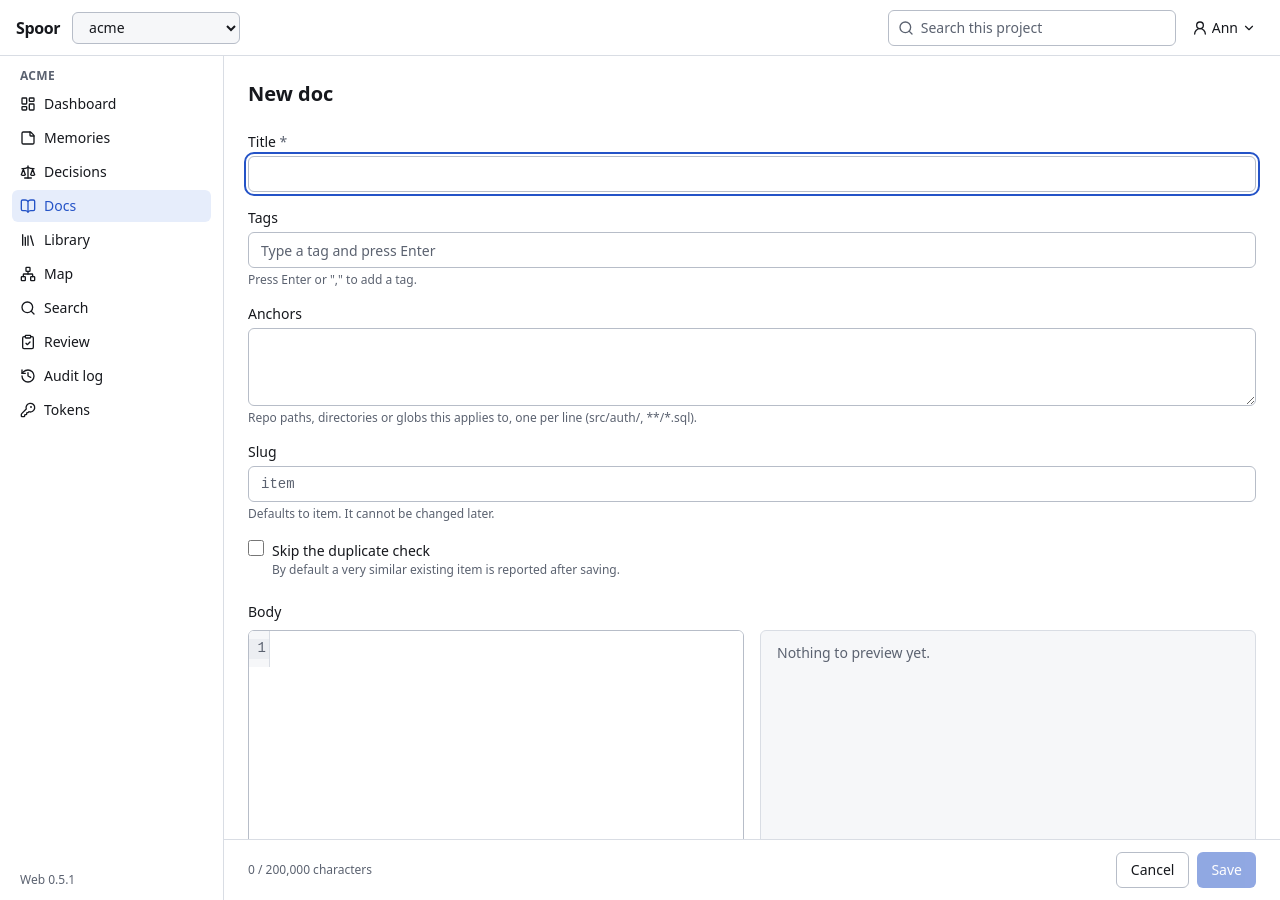
Scenario: editor: frontmatter form › maps server invalid_input issues to their fields
Step 1. Type "Runbook" into the field labelled "Title *" → (752, 174), box [248, 156, 1256, 192]
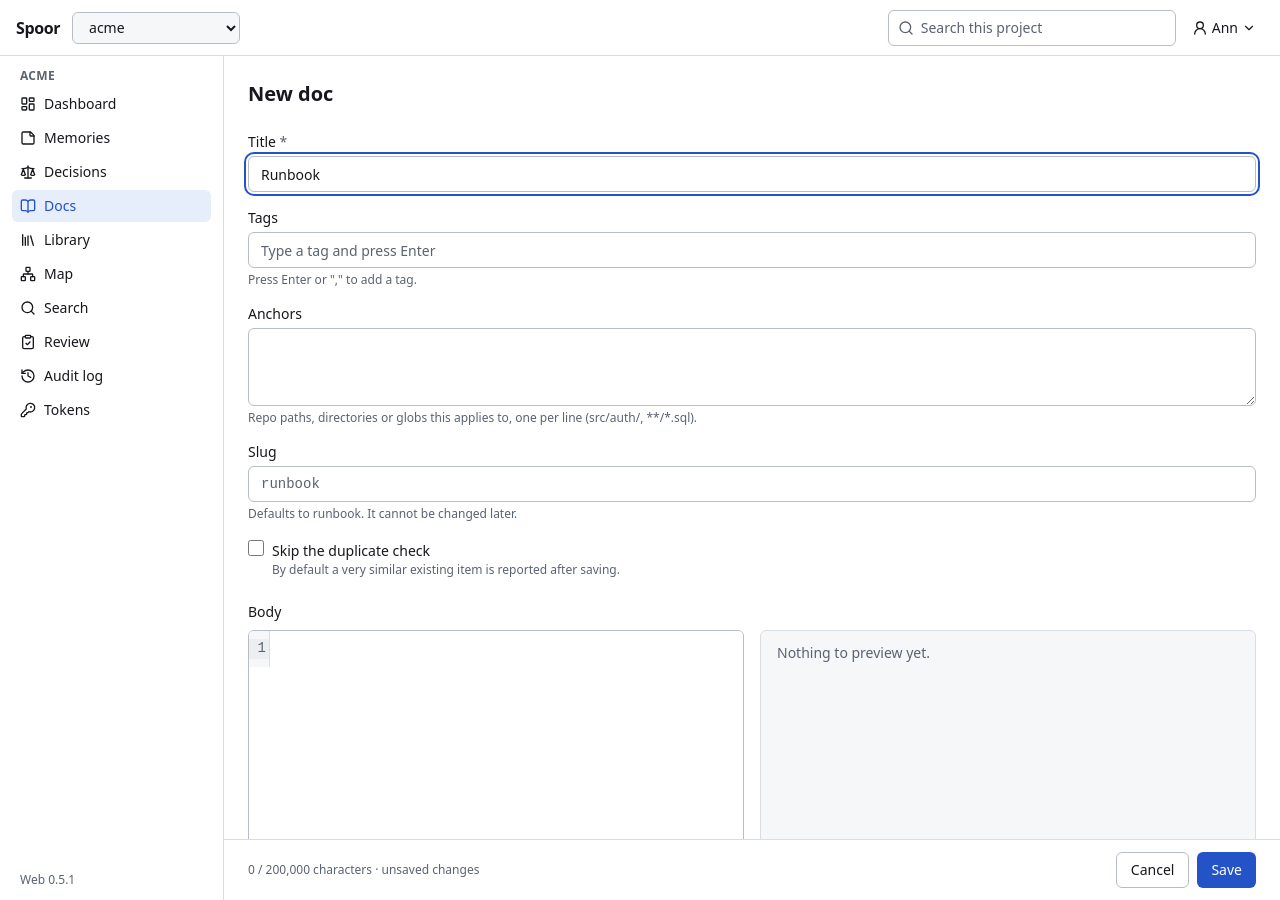
Step 2. Type "ops" into the field labelled "Tags" → (752, 250), box [248, 232, 1256, 268]
Then press Enter
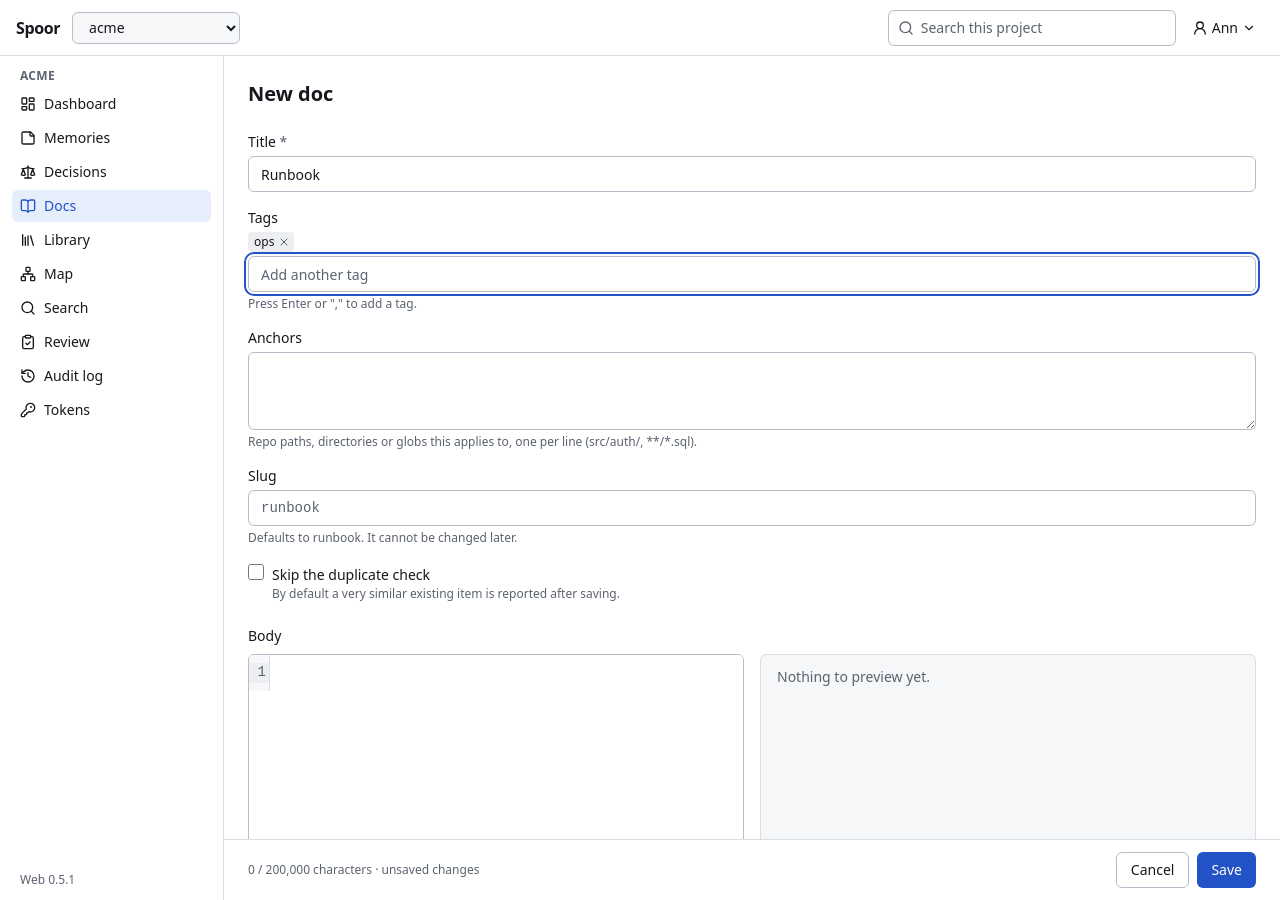
Step 3. Click the button "Save" → (1227, 870), box [1197, 852, 1256, 888]
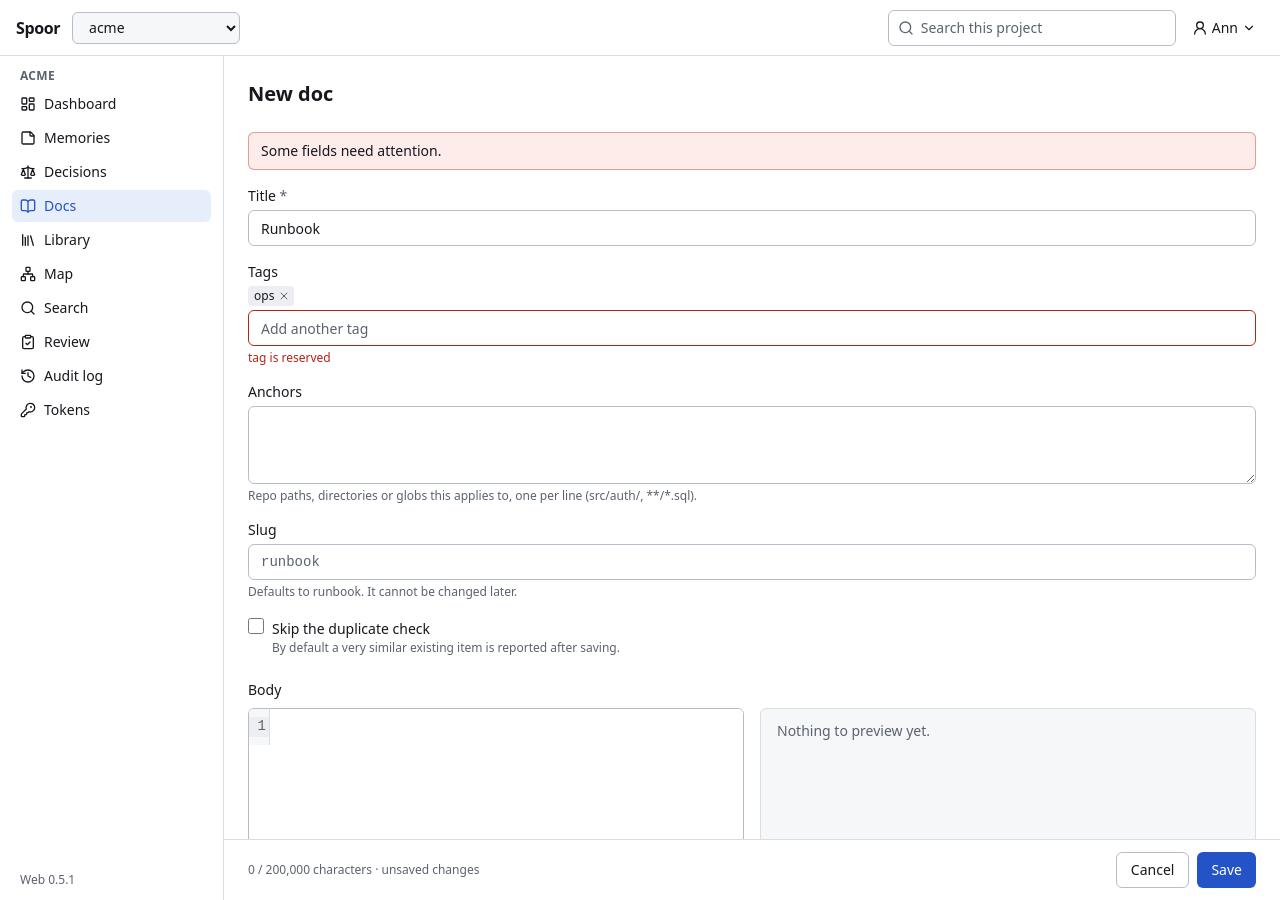
Expected: the text "tag is reserved" is shown, [248, 349, 331, 366]
Expected: the text "Some fields need attention." is shown, [261, 141, 441, 160]
